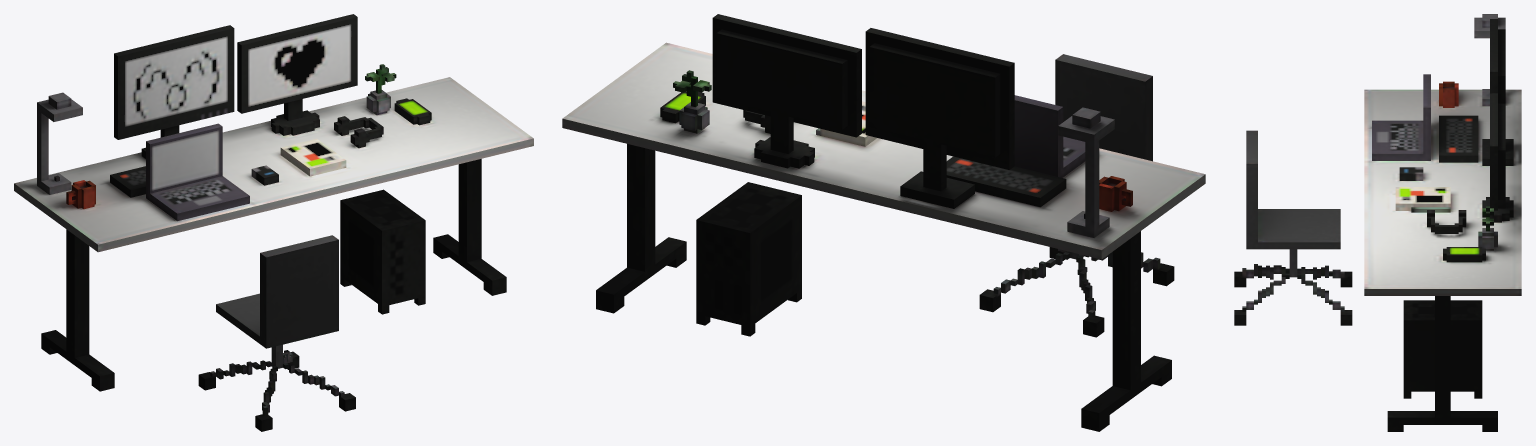
File: desk.glb
3 renders of one model, left to right at view 1: azimuth 30°, elevation 25°; view 2: azimuth 150°, elevation 25°; view 3: azimuth 270°, elevation 25°, orthographic. The views are drawn at different scales.
Parts seen in each view (by area): view 1: newrender; view 2: newrender; view 3: newrender.
Boxes of the visible parts, x1,y1,x2,y2 form: newrender: (14,14,533,431); newrender: (562,14,1205,431); newrender: (1234,14,1521,431).
Size of what is drawn, in the model's own units: 12 by 7.3 by 7.3.
1 material, 1 textured.
